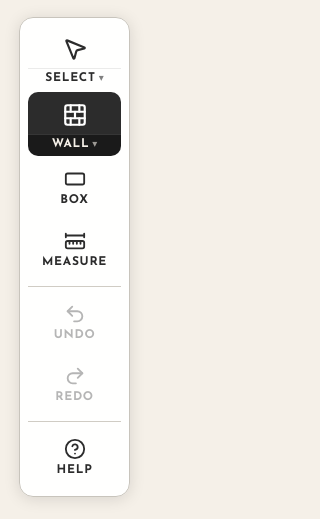
Test case: Toolbar › clicking the toggle opens the dropdown with both options
What coordinates should you click on to do the following:
click the button with test id "tool-select-pan-toggle"
I would click on:
 (75, 79)
Its box is top-left (28, 68), bottom-right (121, 90).
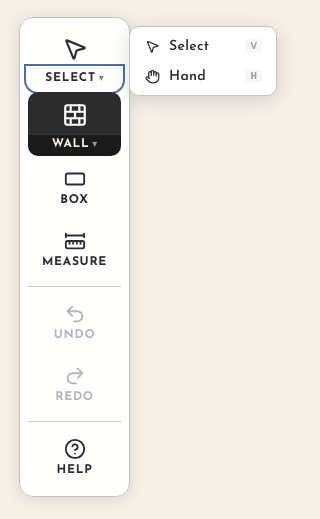
Check: the menu item with test id "tool-select" is shown, box top-left (134, 31), bottom-right (272, 61)
Check: the menu item with test id "tool-pan" is shown, box top-left (134, 61), bottom-right (272, 91)
